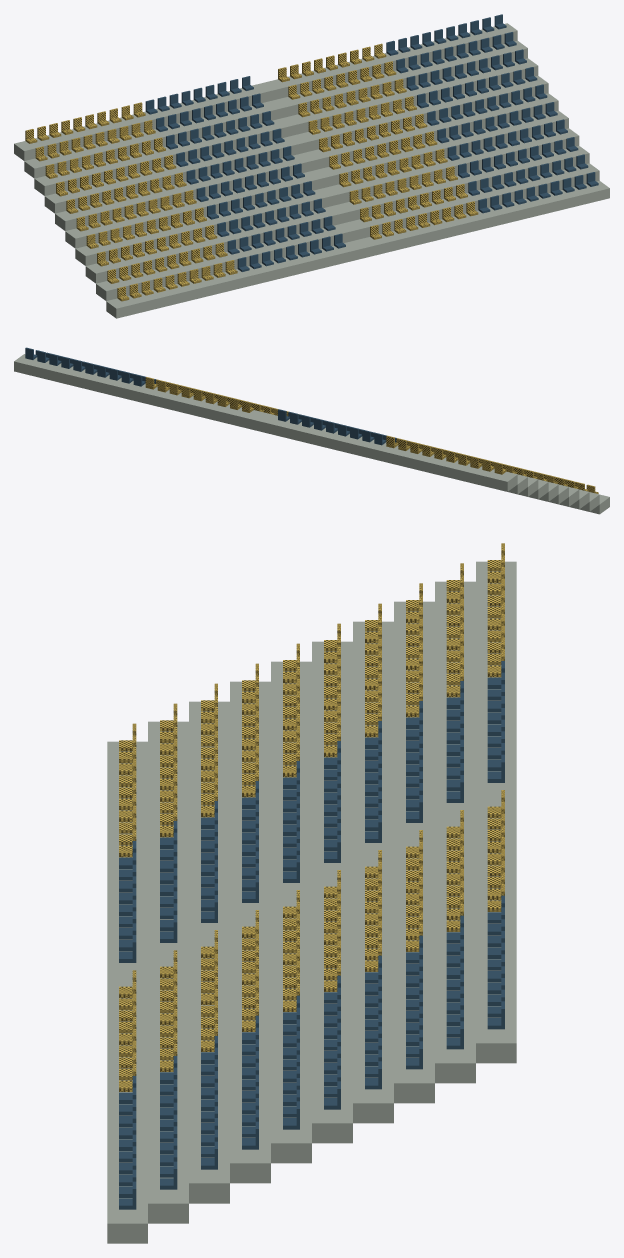
The model's file is texture-probe.glb.
The picture shows the model from 3 angles, top to bottom: view 1: azimuth 30°, elevation 25°; view 2: azimuth 150°, elevation 25°; view 3: azimuth 270°, elevation 25°; orthographic projection. The views are drawn at different scales.
Parts seen in each view (by area): view 1: Синие кресла, Жёлтые кресла, Ряд 1, Ряд 4, Ряд 8, Ряд 3, Ряд 7, Ряд 6, Ряд 5, Ряд 2, Ряд 9, Ряд 10; view 2: Ряд 10, Жёлтые кресла, Синие кресла; view 3: Синие кресла, Жёлтые кресла, Ряд 1, Ряд 2, Ряд 3, Ряд 4, Ряд 5, Ряд 6, Ряд 7, Ряд 8, Ряд 9, Ряд 10.
Boxes of the visible parts, left/top/right/bottom form: Синие кресла: left=145, top=14, right=598, bottom=271; Жёлтые кресла: left=25, top=43, right=478, bottom=301; Ряд 1: left=106, top=181, right=609, bottom=318; Ряд 4: left=75, top=128, right=579, bottom=265; Ряд 8: left=34, top=58, right=538, bottom=195; Ряд 3: left=85, top=146, right=589, bottom=283; Ряд 7: left=44, top=76, right=548, bottom=213; Ряд 6: left=55, top=93, right=558, bottom=230; Ряд 5: left=65, top=110, right=568, bottom=248; Ряд 2: left=96, top=163, right=599, bottom=300; Ряд 9: left=24, top=40, right=527, bottom=178; Ряд 10: left=14, top=23, right=517, bottom=160; Ряд 10: left=14, top=354, right=517, bottom=491; Жёлтые кресла: left=145, top=377, right=598, bottom=493; Синие кресла: left=25, top=347, right=407, bottom=445; Синие кресла: left=119, top=661, right=504, bottom=1209; Жёлтые кресла: left=119, top=543, right=504, bottom=1091; Ряд 1: left=107, top=741, right=147, bottom=1243; Ряд 2: left=148, top=721, right=188, bottom=1223; Ряд 3: left=189, top=701, right=229, bottom=1203; Ряд 4: left=230, top=681, right=270, bottom=1183; Ряд 5: left=271, top=661, right=311, bottom=1163; Ряд 6: left=312, top=641, right=352, bottom=1143; Ряд 7: left=353, top=621, right=393, bottom=1123; Ряд 8: left=394, top=601, right=434, bottom=1103; Ряд 9: left=435, top=581, right=475, bottom=1083; Ряд 10: left=476, top=561, right=516, bottom=1063.
Bounding box in the file's own units: 32 × 7.01 × 11.5.
Materials: 3 (1 with a texture image).
